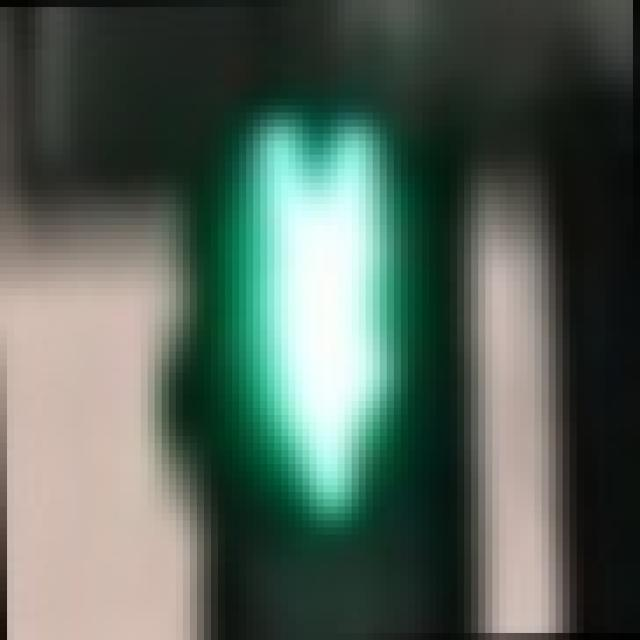geen-crossing: (183, 92, 436, 520)
